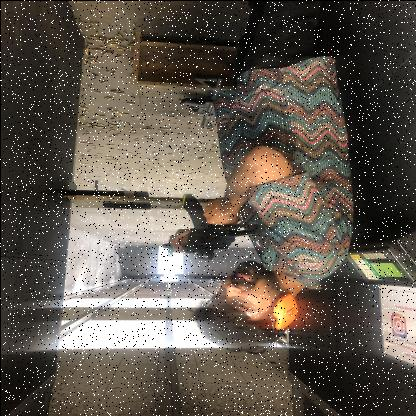rifle: (161, 191, 267, 261), (178, 72, 223, 130)
